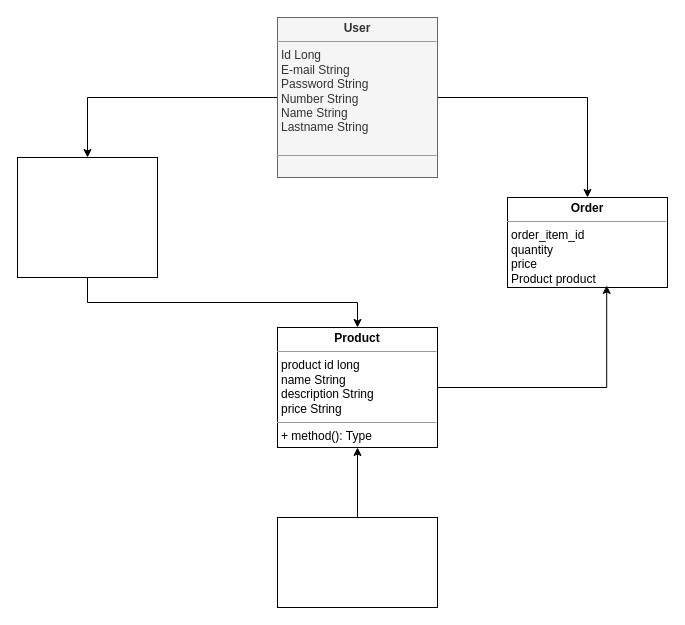
The diagram is 685 pixels wide and 625 high, and some of its shapes have lost their labels. Here are the shapes that lost their labels. From the top down, the centre of each, then its label:
At pixel 87 217: "Cart cart id quantity int User user id Product product id".
At pixel 357 562: "Category Category id Name String + method(): Type".
